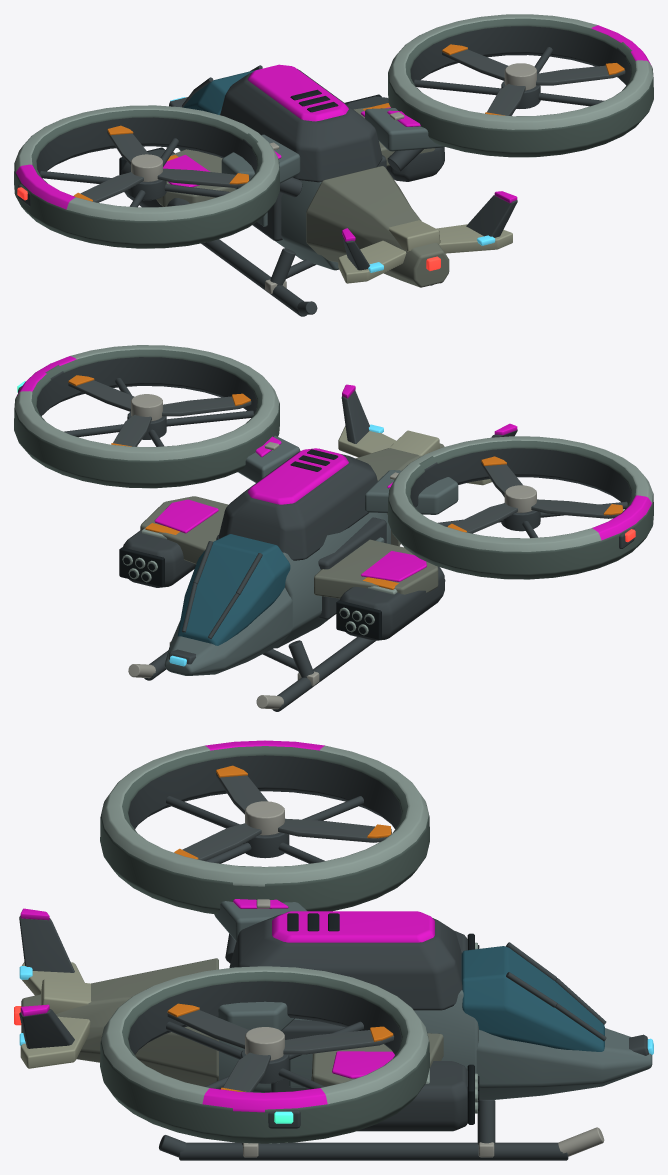
The model's file is missile-tiltrotor.glb.
The picture shows the model from 3 angles, top to bottom: view 1: azimuth 30°, elevation 25°; view 2: azimuth 150°, elevation 25°; view 3: azimuth 270°, elevation 25°; orthographic projection. The views are drawn at different scales.
Parts seen in each view (by area): view 1: Airframe, NacelleLeft, NacelleRight, RotorRight, RotorLeft, LandingSkids; view 2: Airframe, NacelleRight, NacelleLeft, RotorRight, RotorLeft, LandingSkids; view 3: Airframe, NacelleLeft, NacelleRight, LandingSkids, RotorRight, RotorLeft.
Boxes of the visible parts, x1,y1,x2,y2 form: Airframe: [119, 64, 517, 287]; NacelleLeft: [14, 105, 279, 248]; NacelleRight: [388, 14, 653, 157]; RotorRight: [442, 44, 625, 115]; RotorLeft: [73, 125, 249, 202]; LandingSkids: [201, 239, 441, 316]; Airframe: [119, 384, 517, 675]; NacelleRight: [14, 345, 279, 488]; NacelleLeft: [388, 436, 653, 579]; RotorRight: [68, 375, 251, 446]; RotorLeft: [447, 456, 623, 533]; LandingSkids: [128, 579, 445, 711]; Airframe: [14, 899, 653, 1131]; NacelleLeft: [100, 740, 429, 914]; NacelleRight: [100, 966, 429, 1143]; LandingSkids: [159, 1099, 604, 1160]; RotorRight: [167, 1003, 394, 1091]; RotorLeft: [174, 765, 391, 860].
Size of the model in its own units: 4.63 by 1.18 by 3.39.
